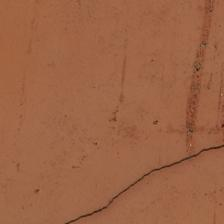Crack: (115, 0, 196, 120), (56, 68, 168, 149)
